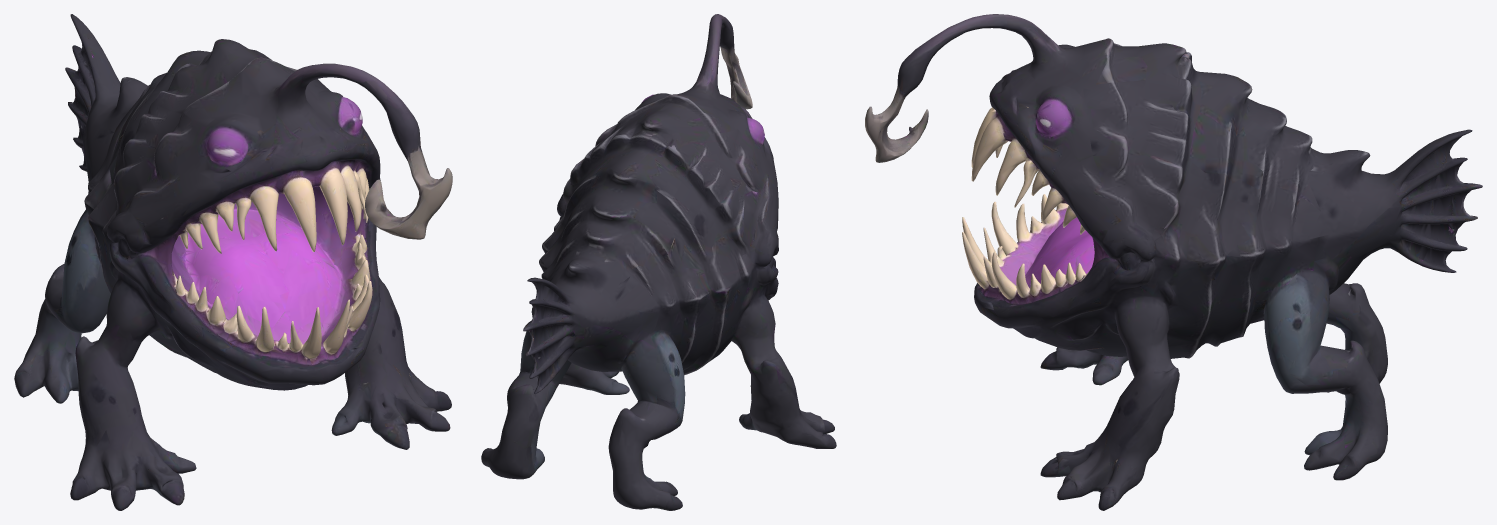
The picture shows the model from 3 angles, left to right: view 1: azimuth 30°, elevation 25°; view 2: azimuth 150°, elevation 25°; view 3: azimuth 270°, elevation 25°; orthographic projection. The views are drawn at different scales.
Parts seen in each view (by area): view 1: Mesh_0; view 2: Mesh_0; view 3: Mesh_0.
Boxes of the visible parts, x1,y1,x2,y2 form: Mesh_0: (14,14,452,510); Mesh_0: (481,14,836,510); Mesh_0: (865,14,1482,510).
Bounding box in the file's own units: 1.31 × 1.42 × 1.9.
1 material, 1 textured.
